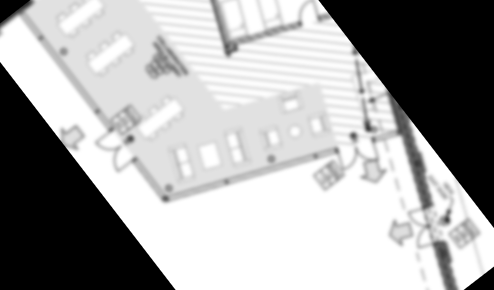door: (162, 0, 256, 53), (292, 0, 326, 28)
double door: (328, 127, 385, 182), (396, 200, 448, 255), (92, 128, 138, 177)
wall: (224, 0, 304, 71)
